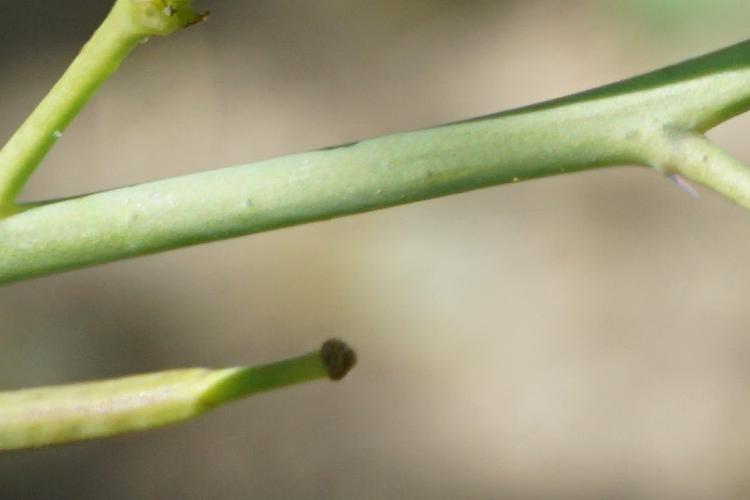pod: (4, 343, 393, 482)
